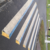zebra: (3, 1, 41, 50)
